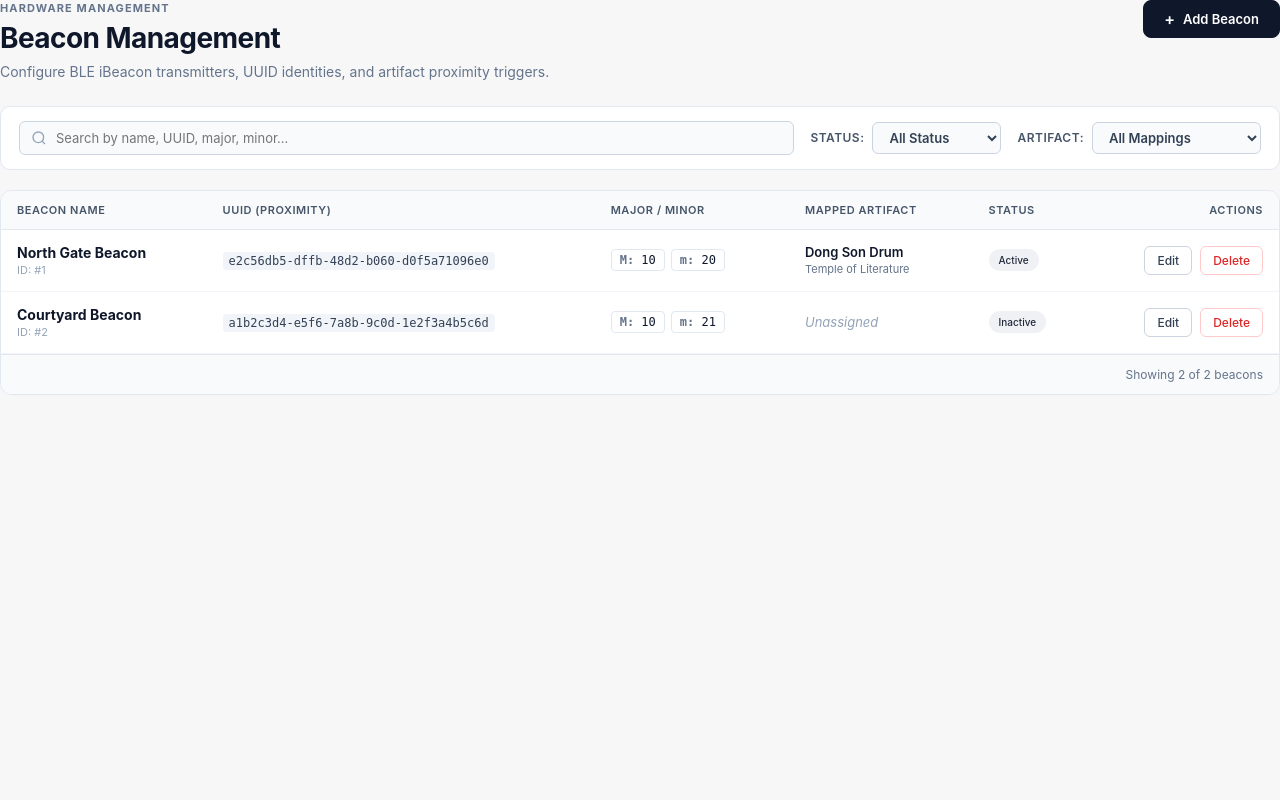
BeaconsPage — Admin Beacon Management › error handling › refreshes the list when updating a beacon that no longer exists (404)
Expected: the text "North Gate Beacon" is shown, x1=17 y1=244 x2=146 y2=260
Click the button with aria-label "edit north gate beacon".
click(1168, 260)  # box x1=1144 y1=246 x2=1192 y2=274
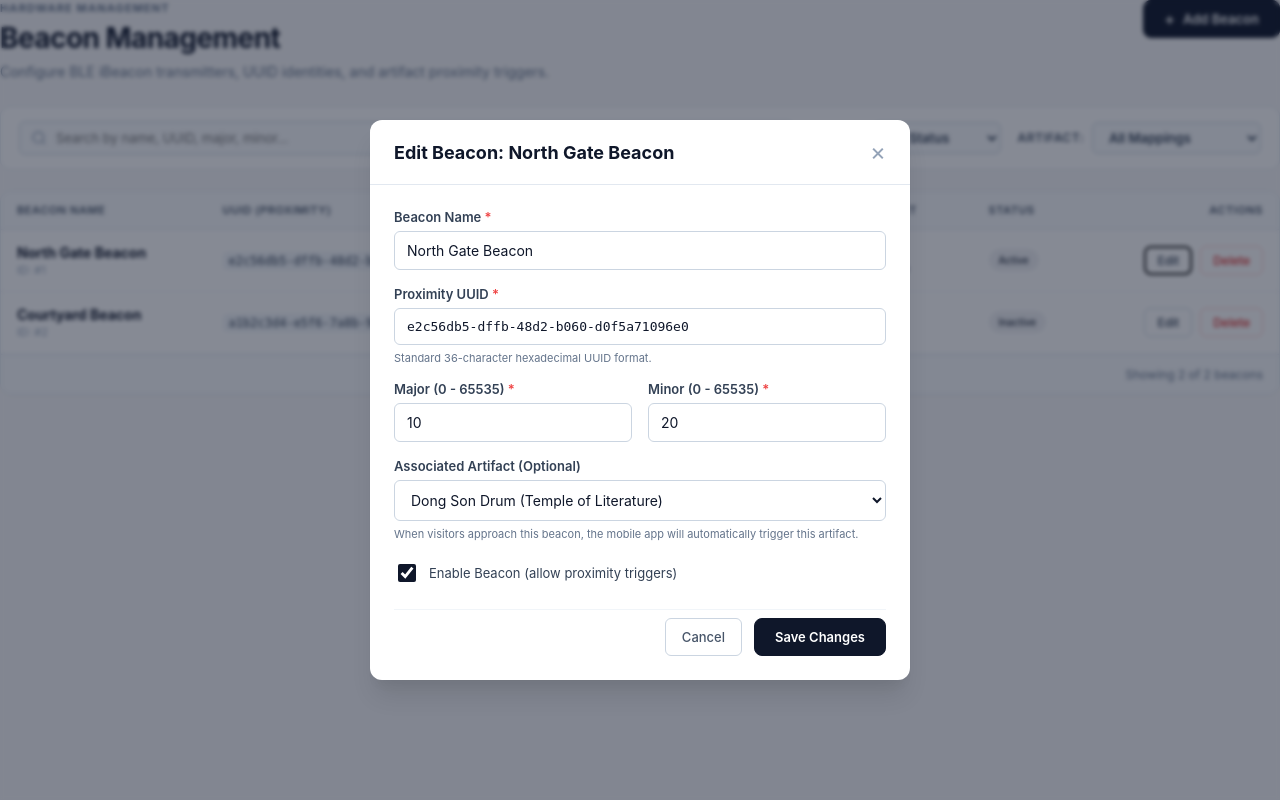
Expected: the heading "Edit Beacon: North Gate Beacon" is shown, x1=394 y1=142 x2=674 y2=162
Click the button "Save Changes".
click(820, 637)  # box x1=754 y1=618 x2=886 y2=656
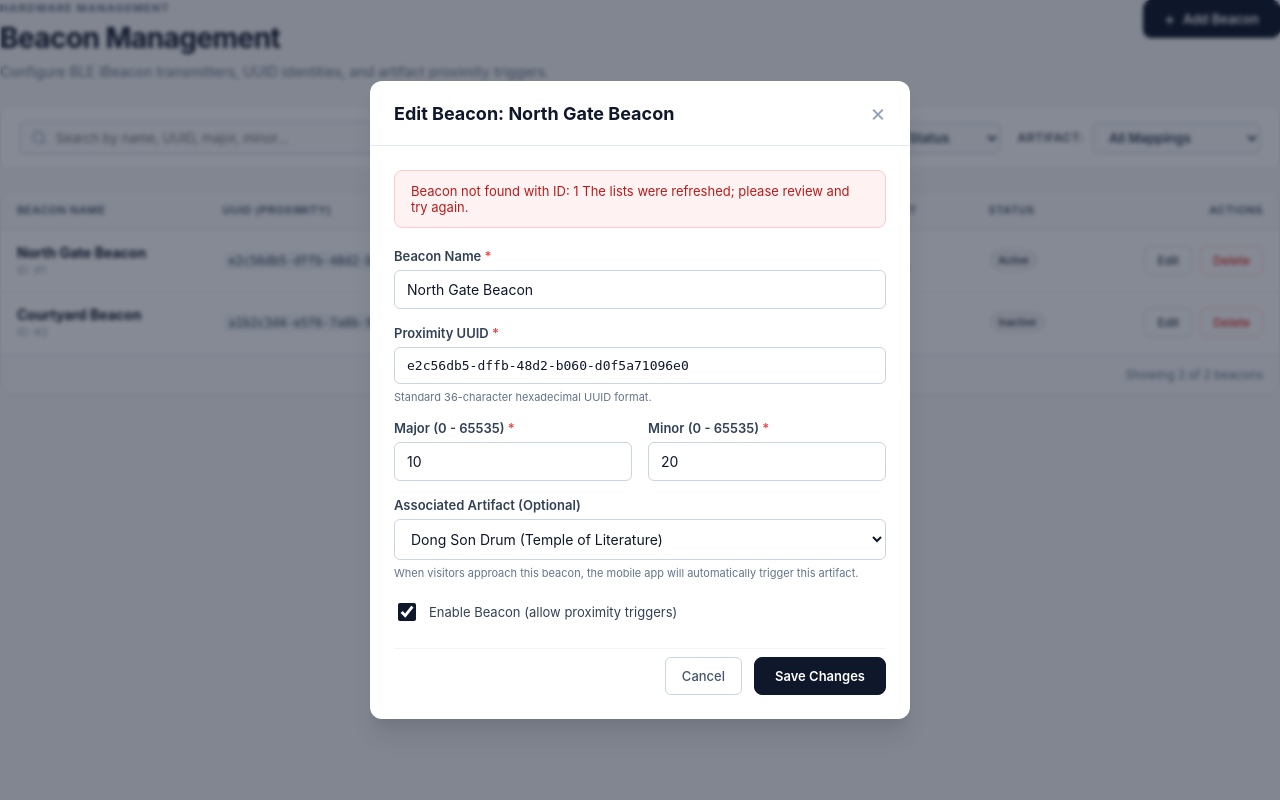
Expected: the text "Beacon not found with ID: 1" is shown, x1=411 y1=183 x2=850 y2=215
